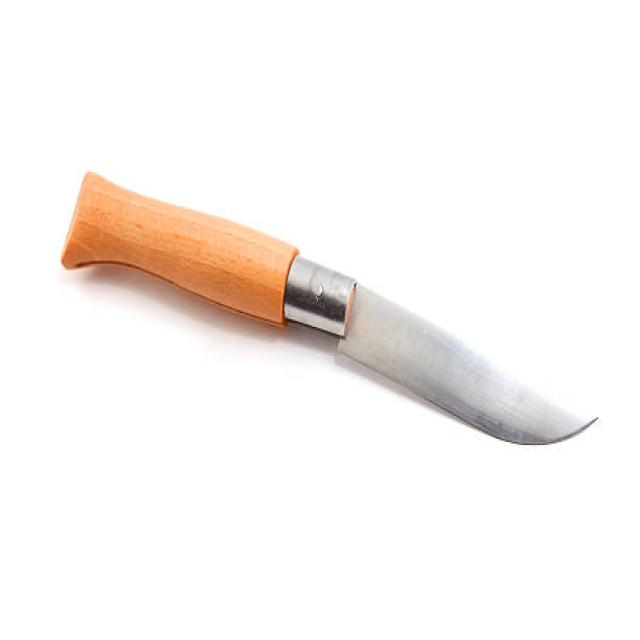knife: (60, 167, 604, 454)
